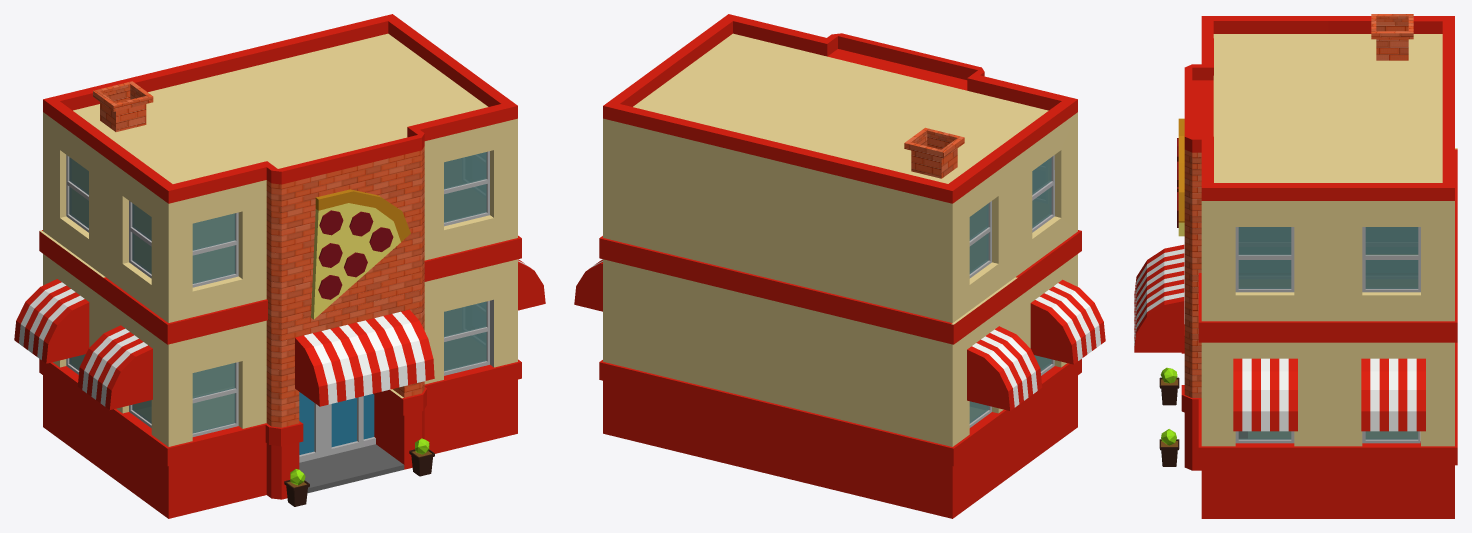
Rendered from pizzeria2.glb.
3 renders of one model, left to right at view 1: azimuth 30°, elevation 25°; view 2: azimuth 150°, elevation 25°; view 3: azimuth 270°, elevation 25°, orthographic.
Parts seen in each view (by area): view 1: pizzeria, pizzeria.001, vetro; view 2: pizzeria, vetro, pizzeria.001; view 3: pizzeria, vetro, pizzeria.001.
Part boxes in pixels (x1,y1,x2,y2): pizzeria: (14, 14, 545, 518); pizzeria.001: (93, 81, 424, 427); vetro: (69, 152, 486, 433); pizzeria: (574, 14, 1105, 518); vetro: (969, 157, 1051, 423); pizzeria.001: (904, 127, 964, 178); pizzeria: (1134, 16, 1457, 518); vetro: (1238, 227, 1418, 439); pizzeria.001: (1184, 14, 1413, 397).
Bounding box in the file's own units: 1531 × 1155 × 975.
3 materials, 3 textured.
